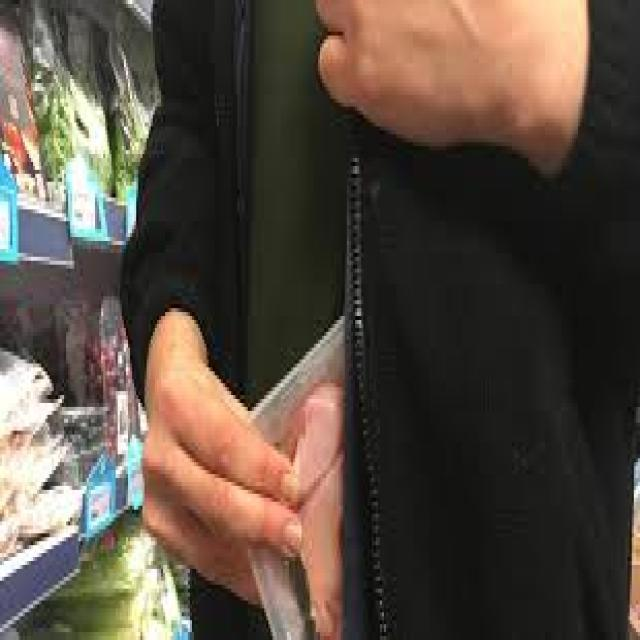Shoplifting: (121, 0, 640, 638)
